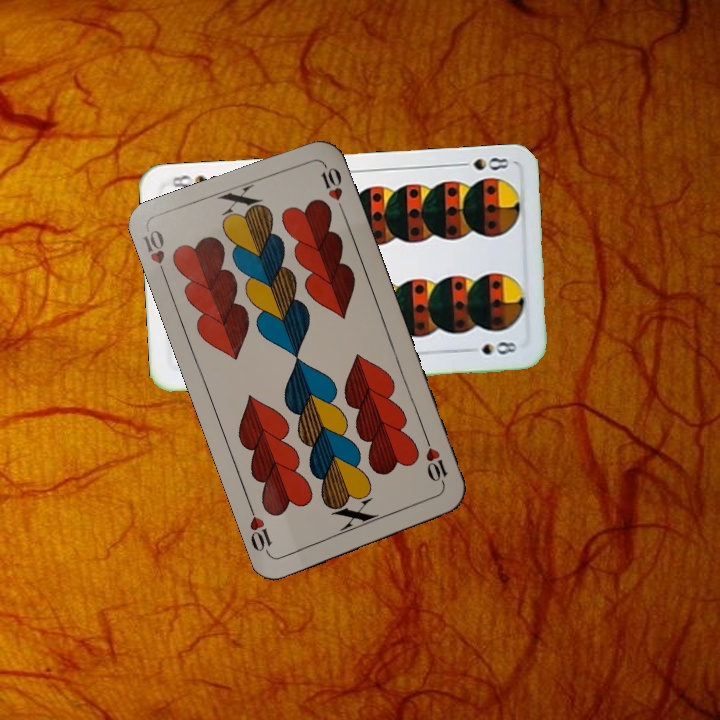H10: (139, 225, 170, 284), (421, 433, 451, 491)
S8: (453, 153, 512, 173)
